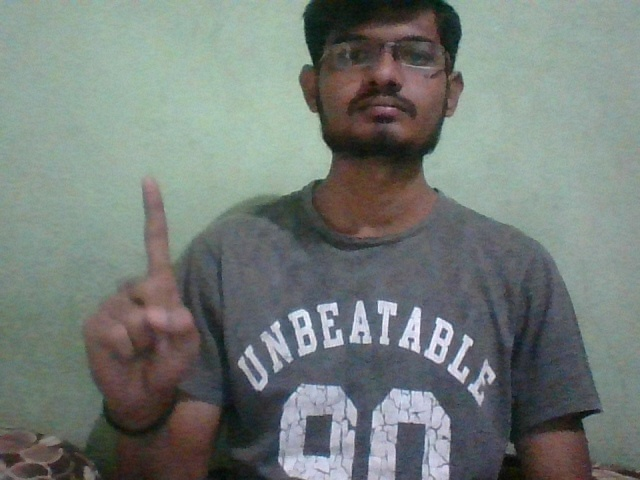where: (50, 169, 221, 400)
